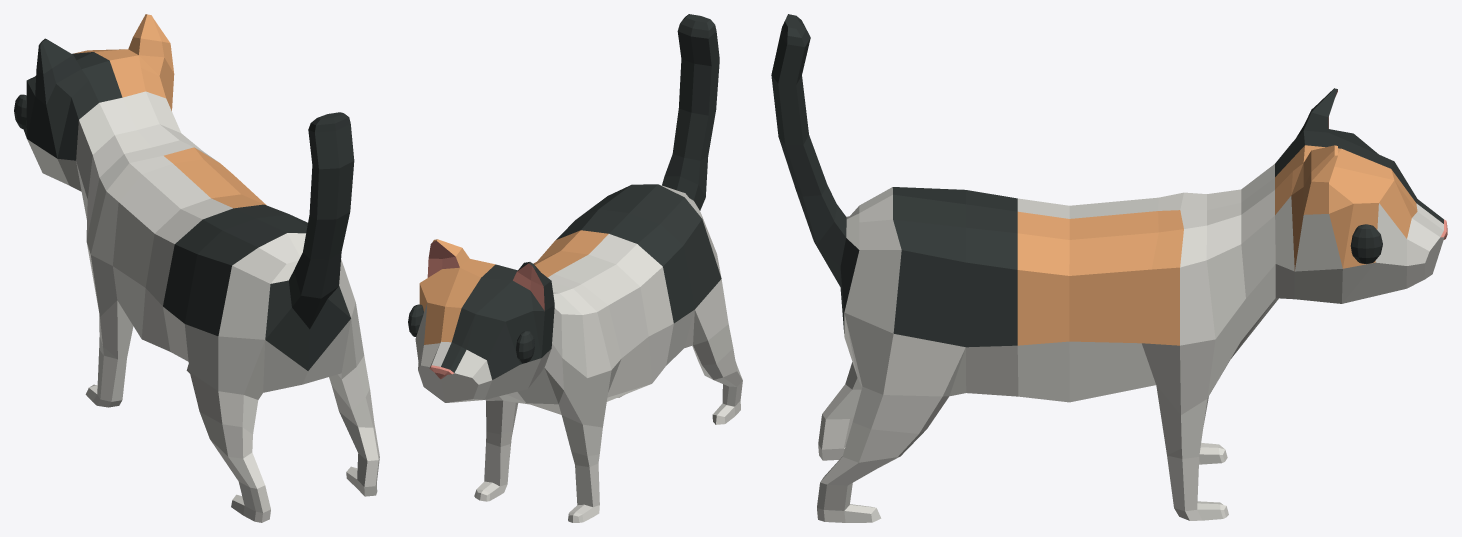
Rendered from maree.glb.
3 views of the same model, side by side, from view 1: azimuth 30°, elevation 25°; view 2: azimuth 150°, elevation 25°; view 3: azimuth 270°, elevation 25° (orthographic). The views are drawn at different scales.
Parts seen in each view (by area): view 1: maree; view 2: maree; view 3: maree.
Part boxes in pixels (x1=…): maree: x1=14, y1=14, x2=379, y2=522; maree: x1=408, y1=14, x2=742, y2=522; maree: x1=771, y1=14, x2=1447, y2=522.
Size of the model in its own units: 0.2211 by 0.561 by 0.7352.
